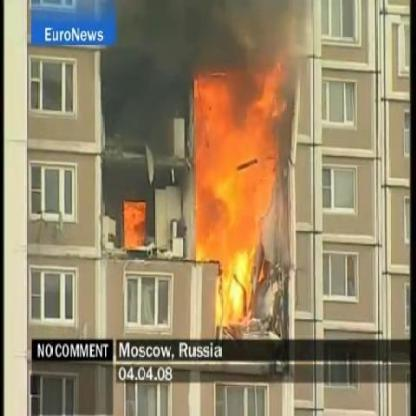fire: (195, 66, 289, 322), (125, 200, 147, 250)
